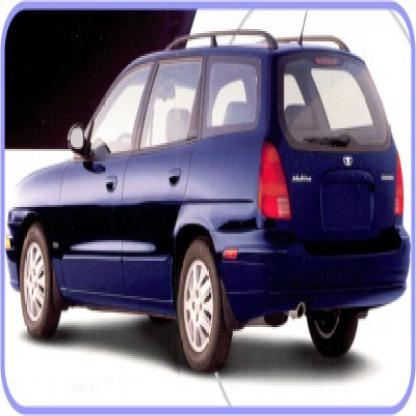Vehicle: (5, 12, 413, 383)
